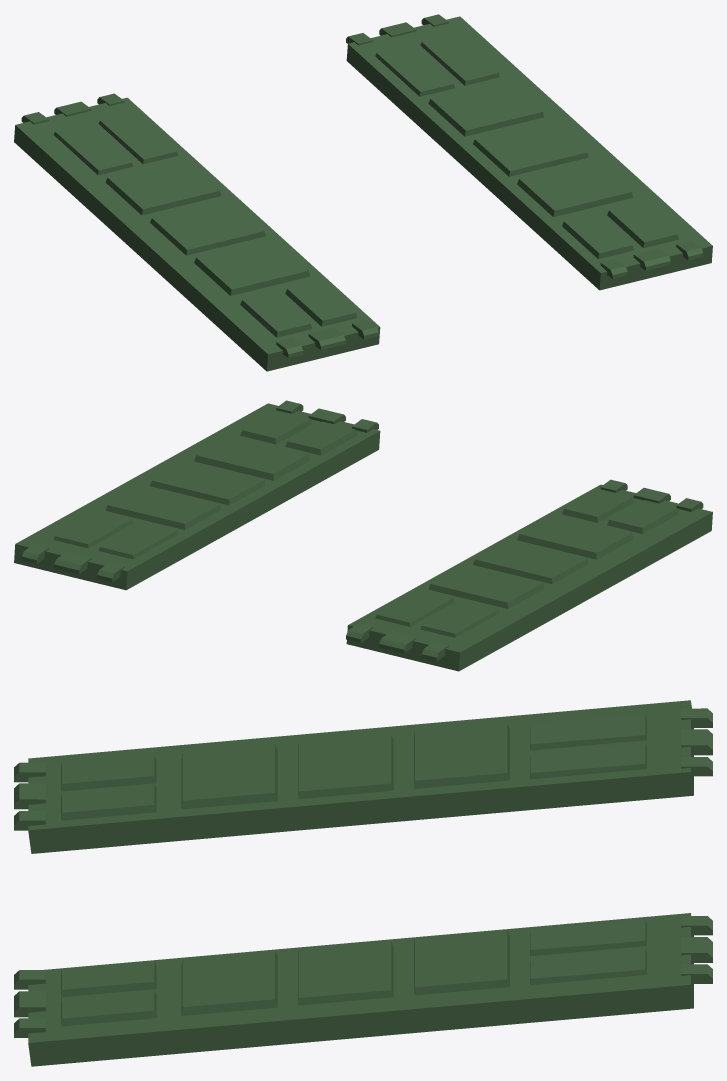
The model's file is Tank_TrackCovers_01.fbx.
3 renders of one model, top to bottom at view 1: azimuth 30°, elevation 25°; view 2: azimuth 150°, elevation 25°; view 3: azimuth 270°, elevation 25°, orthographic. The views are drawn at different scales.
Visible parts, largest first — view 1: TrackCovers; view 2: TrackCovers; view 3: TrackCovers.
Part boxes in pixels (x1,y1,x2,y2): TrackCovers: [14, 14, 712, 371]; TrackCovers: [14, 400, 712, 671]; TrackCovers: [14, 700, 712, 1066].
Size of the model in its own units: 1.29 by 0.1767 by 1.34.
